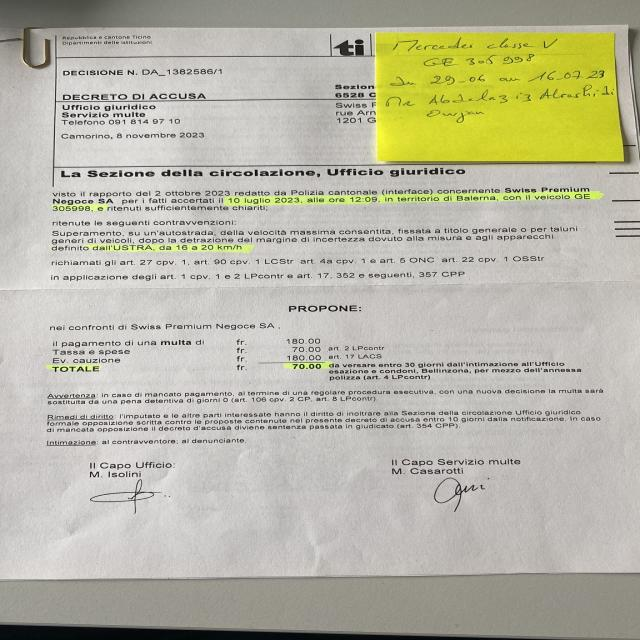paper-document-: (0, 25, 640, 578)
